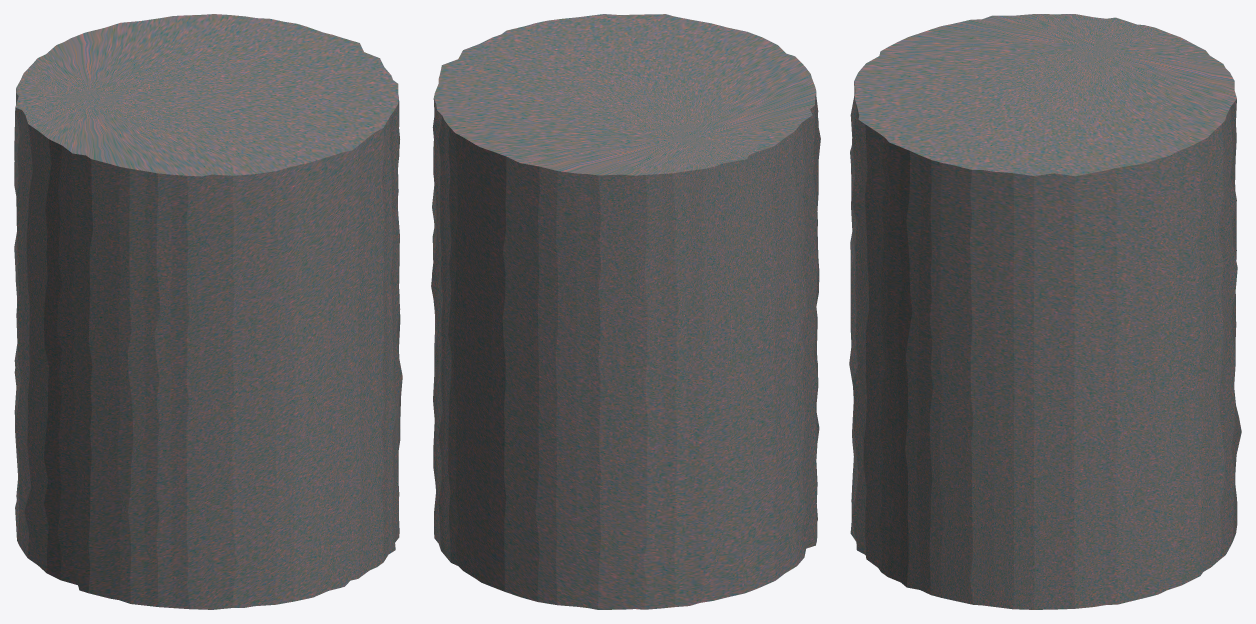
The model's file is barrel_3.dae.
3 views of the same model, side by side, from view 1: azimuth 30°, elevation 25°; view 2: azimuth 150°, elevation 25°; view 3: azimuth 270°, elevation 25° (orthographic).
Visible parts, largest first — view 1: Cylinder; view 2: Cylinder; view 3: Cylinder.
Boxes of the visible parts, x1,y1,x2,y2 form: Cylinder: (14,14,402,609); Cylinder: (431,14,820,609); Cylinder: (849,14,1241,609).
Size of the model in its own units: 0.8161 by 0.8183 by 1.
1 material, 1 textured.
